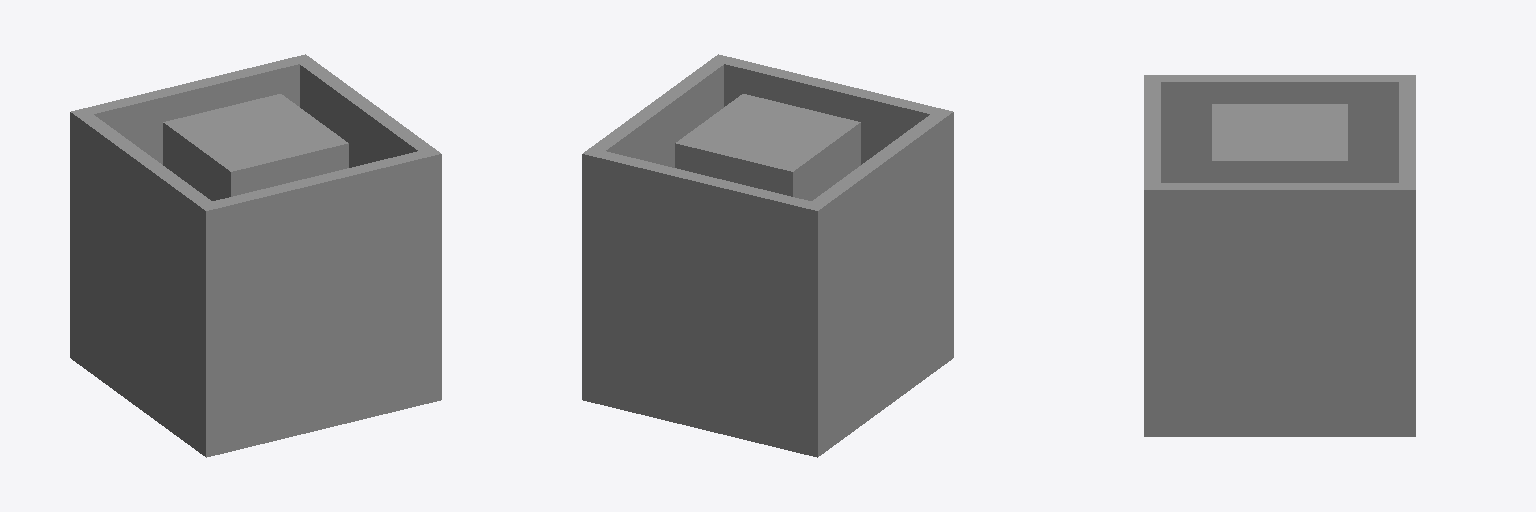
The model's file is autominer.obj.
The picture shows the model from 3 angles: view 1: azimuth 30°, elevation 25°; view 2: azimuth 150°, elevation 25°; view 3: azimuth 270°, elevation 25°; orthographic projection.
Parts seen in each view (by area): view 1: Cube; view 2: Cube; view 3: Cube.
Boxes of the visible parts, box(x1,y1,x2,y2) form: Cube: box(70, 54, 441, 457); Cube: box(582, 54, 953, 457); Cube: box(1144, 75, 1415, 436).
Size of the model in its own units: 1 by 1 by 1.